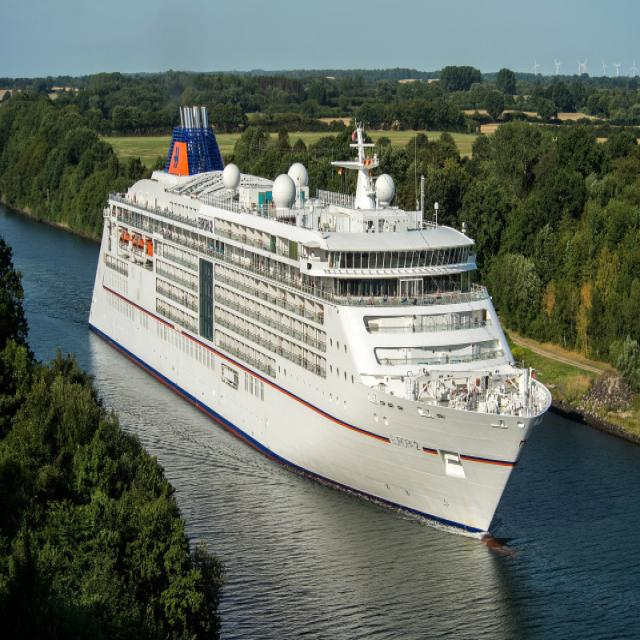cruises: (86, 85, 554, 549)
